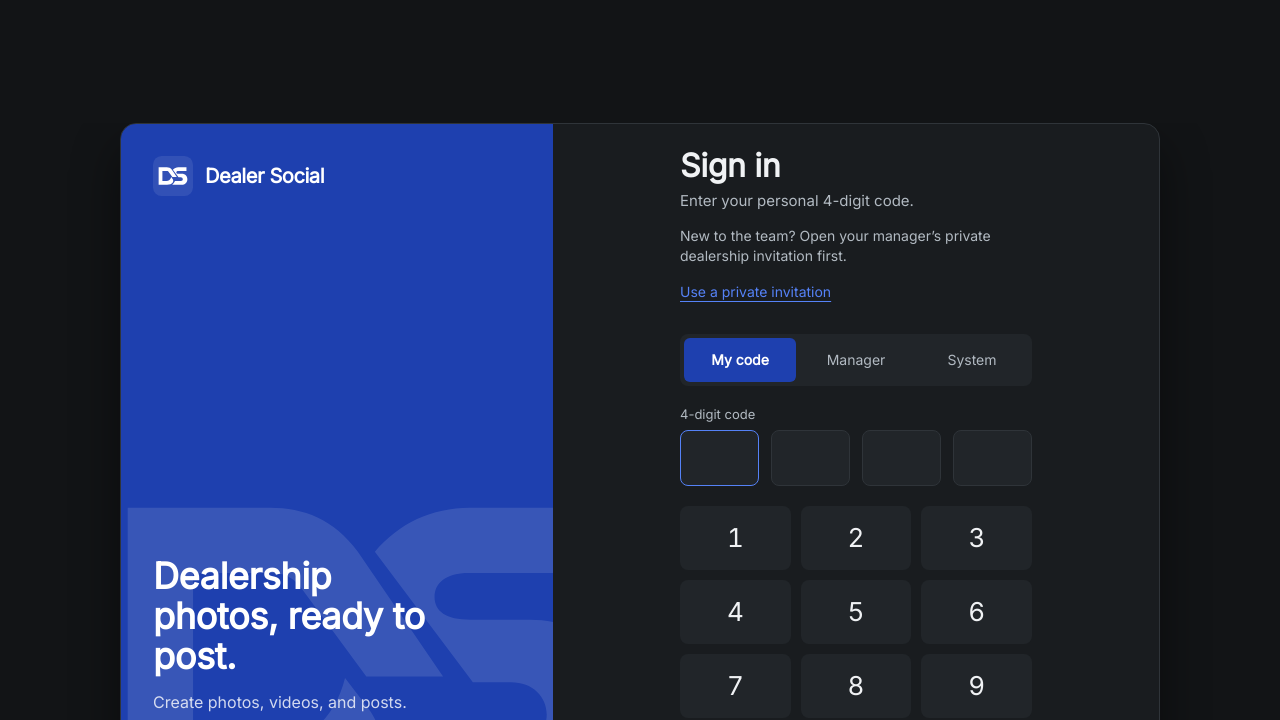
Scenario: risk-triggered sign-in UX › keeps invalid system-admin credentials inline and clears them on mode change
The width and height of the screenshot is (1280, 720).
(page scrolled)
Click the button with aria-label "System admin" at {"x": 972, "y": 360}, box [916,338,1028,382]
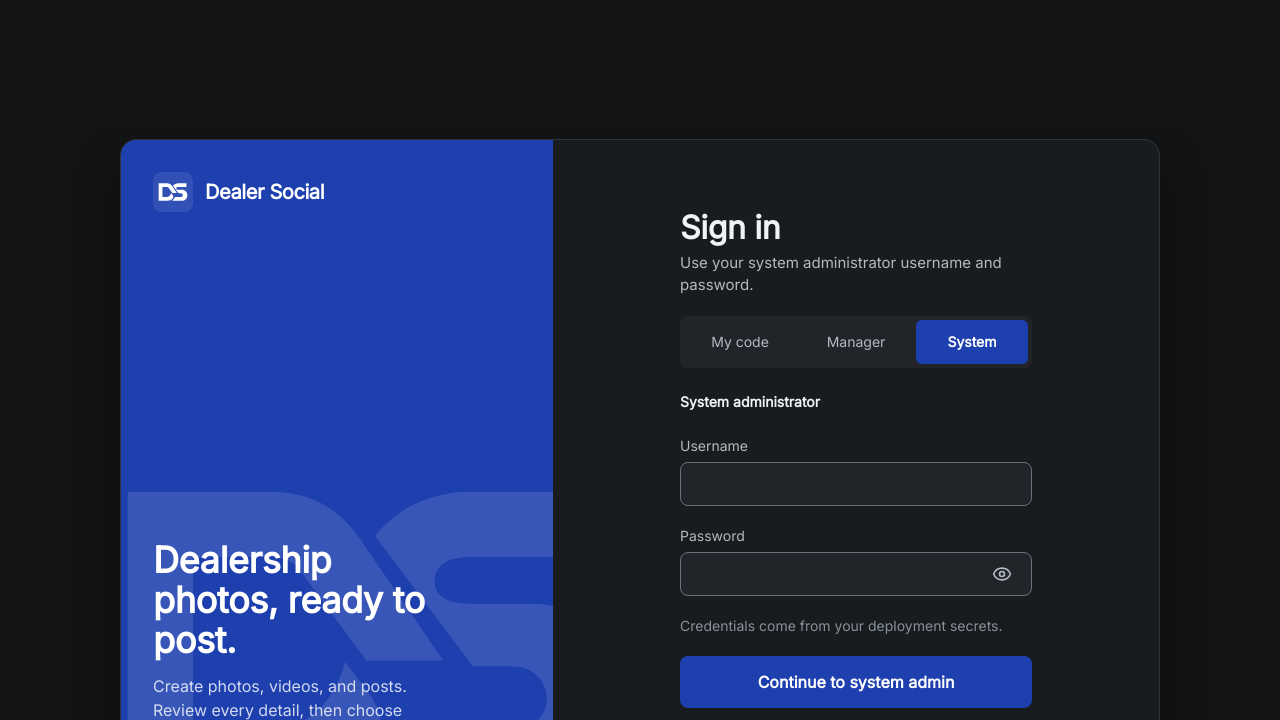
Type "admin" into the field labelled "Username" at {"x": 856, "y": 484}, box [680,462,1032,506]
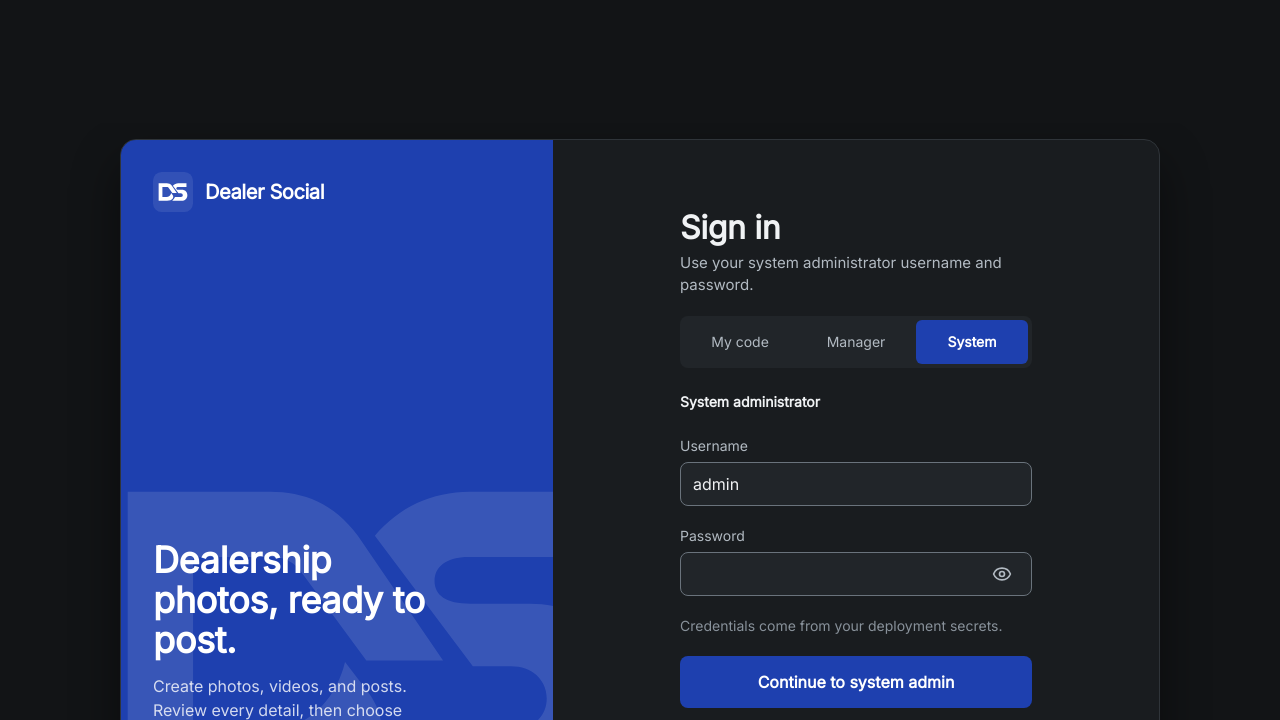
Type "Abcdef123456" into the password field labelled "Password" at {"x": 856, "y": 574}, box [680,552,1032,596]
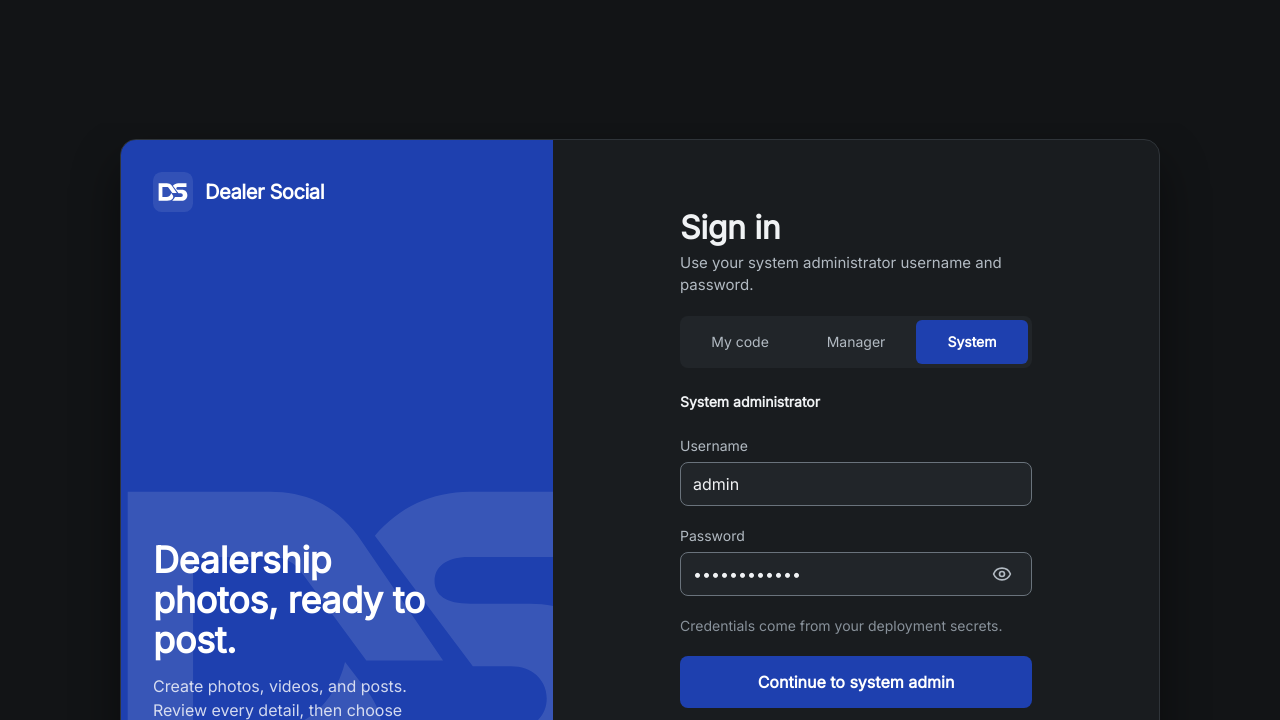
Click the button "Continue to system admin" at {"x": 856, "y": 682}, box [680,656,1032,708]
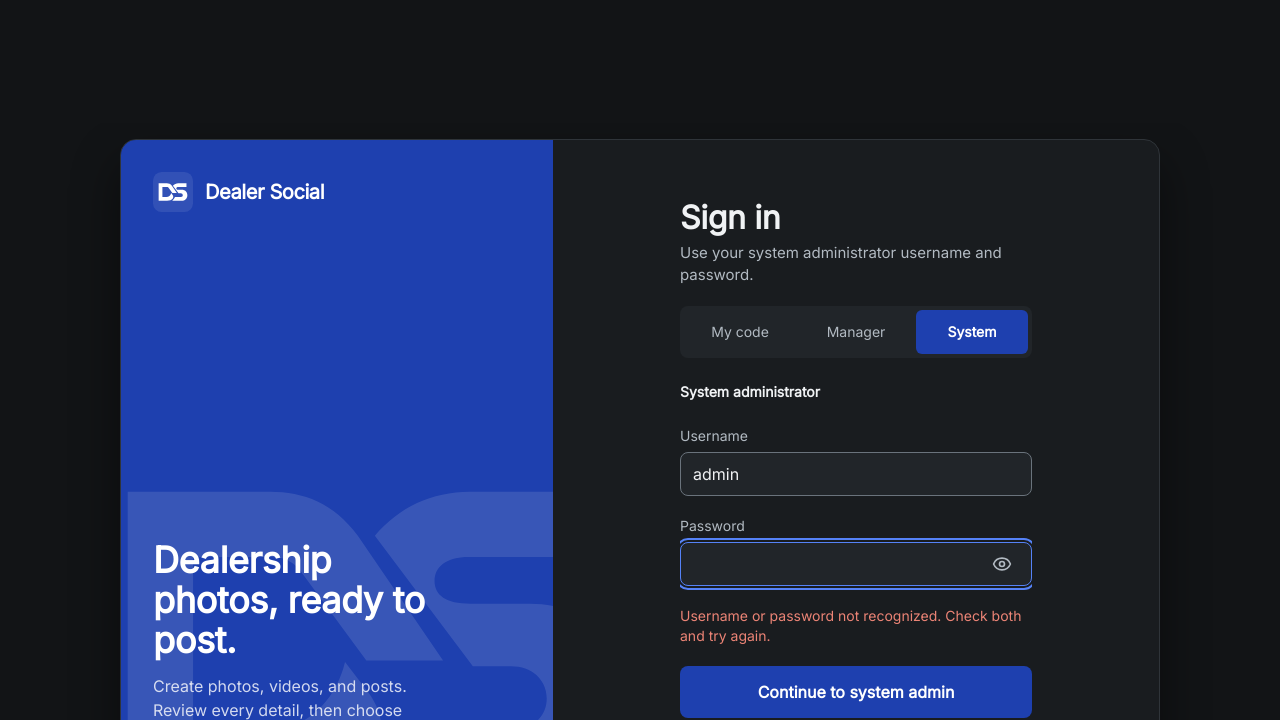
Check: the number of messages is 1, box [680,606,1032,646]
Check: the password field labelled "Password" is empty, box [680,542,1032,586]
Check: the field labelled "Username" holds "admin", box [680,452,1032,496]
Click the button "My code" at {"x": 740, "y": 332}, box [684,310,796,354]
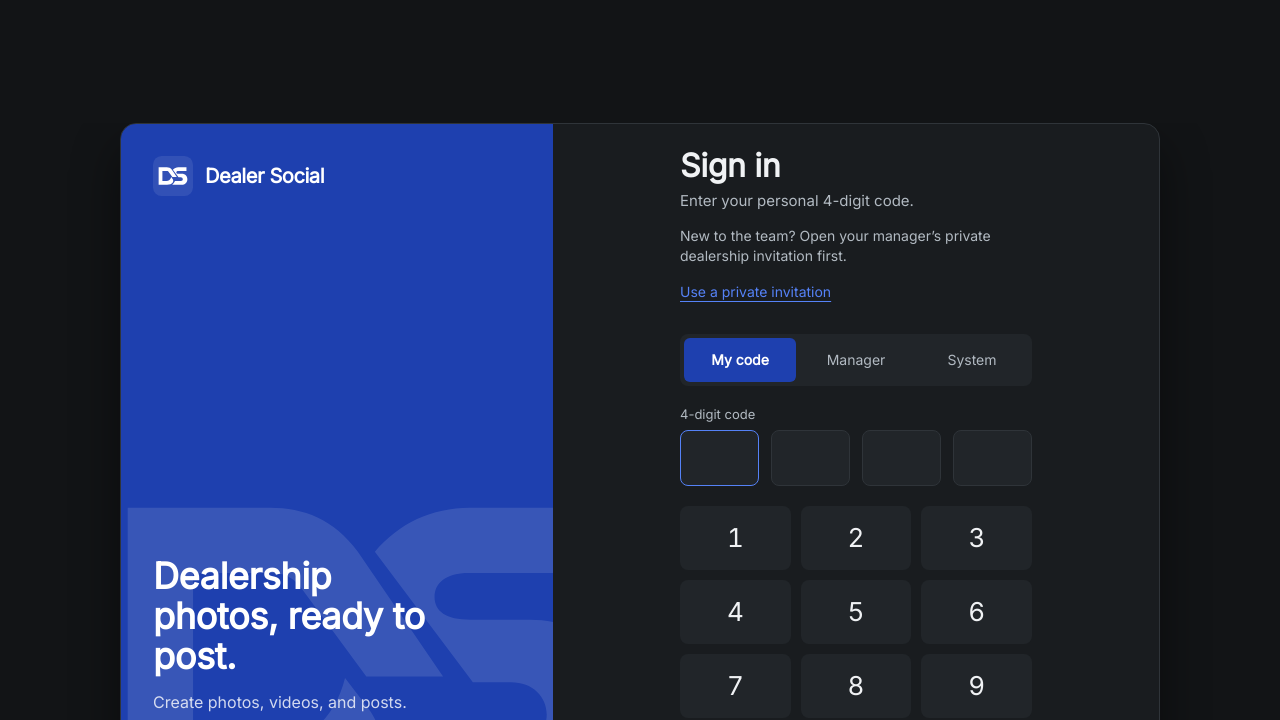
Check: the text "not recognized" is gone
Check: the message named "0 of 4 digits entered" is shown, box [680,430,1032,486]
